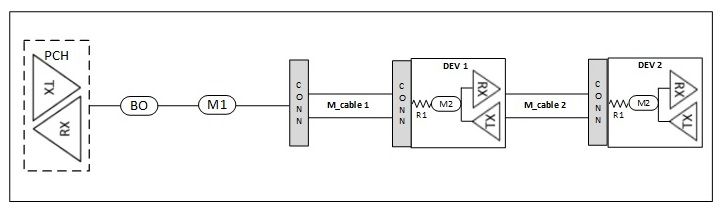dotted_rectangle: (18, 32, 94, 181)
oval: (114, 89, 162, 122), (194, 88, 237, 121), (629, 93, 659, 112), (430, 95, 462, 112)
rectangle: (390, 58, 415, 150), (287, 60, 311, 152), (586, 59, 609, 147), (470, 70, 503, 112), (670, 99, 699, 145), (668, 68, 700, 108), (473, 100, 501, 143)
resistor: (412, 94, 433, 113), (607, 94, 631, 110)
triangle: (30, 93, 86, 165), (30, 52, 82, 121)
